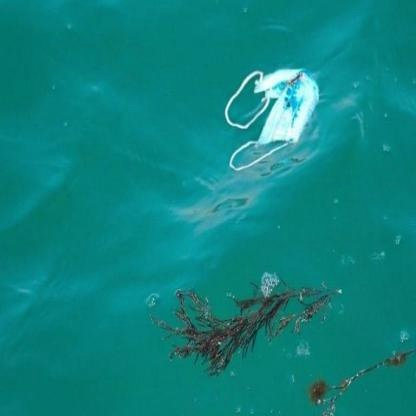Mask: (223, 64, 320, 174)
